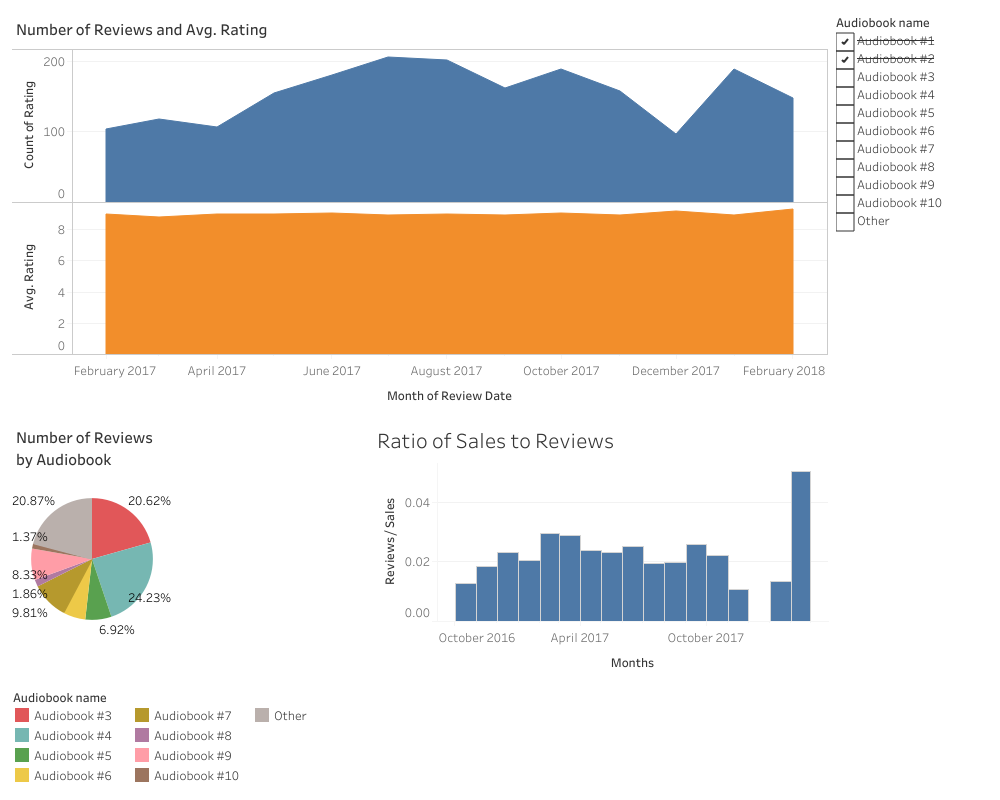

What the dashboard file says about the page in this screenshot:
{"tool":"tableau","page":{"name":"Dashboard-Jato","canvas":[1000,800],"ordinal":0},"visuals":[{"type":"worksheet","title":"chart1","mark":"Area","rows":["Rating","Rating"],"cols":["Review Date"],"box":[8,8,824,408]},{"type":"filter","title":"chart2","param":"[federated.1g384wq0xsyi1y132hs4812uf40g].[none:Audiobook name:nk]","box":[832,8,160,273]},{"type":"worksheet","title":"chart2","mark":"Pie","box":[8,416,361,266]},{"type":"worksheet","title":"chart3","mark":"Bar","rows":["Calculation_2077144626631462935"],"cols":["Date of Purchase"],"box":[369,416,463,266]},{"type":"legend","title":"chart2","param":"[federated.1g384wq0xsyi1y132hs4812uf40g].[none:Audiobook name:nk]","box":[8,682,824,110]}]}

Visuals, with their boxes in screenshot pixels (x1, y1, x2, y2), scaled from the page's 1000x800 canvas onto the 1000x800 screenshot:
"chart1" worksheet (Area marks): (left=8, top=8, right=832, bottom=416)
"chart2" filter: (left=832, top=8, right=992, bottom=281)
"chart2" worksheet (Pie marks): (left=8, top=416, right=369, bottom=682)
"chart3" worksheet (Bar marks): (left=369, top=416, right=832, bottom=682)
"chart2" legend: (left=8, top=682, right=832, bottom=792)
